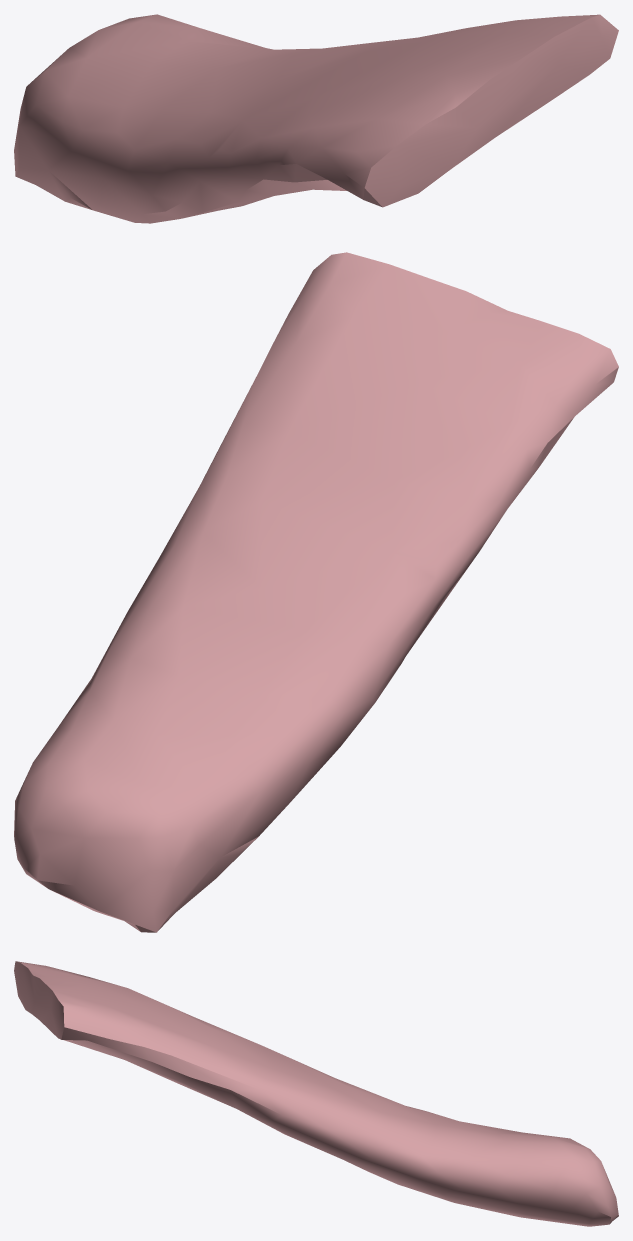
File: fma56780_mm1053m.glb
3 renders of one model, top to bottom at view 1: azimuth 30°, elevation 25°; view 2: azimuth 150°, elevation 25°; view 3: azimuth 270°, elevation 25°, orthographic. The views are drawn at different scales.
Parts seen in each view (by area): view 1: FMA56780_MM1053M; view 2: FMA56780_MM1053M; view 3: FMA56780_MM1053M.
Boxes of the visible parts, x1=… form: FMA56780_MM1053M: x1=14, y1=14, x2=618, y2=223; FMA56780_MM1053M: x1=14, y1=252, x2=618, y2=932; FMA56780_MM1053M: x1=14, y1=961, x2=618, y2=1226.
Size of the model in its own units: 0.00102 by 0.00134 by 0.0027.
